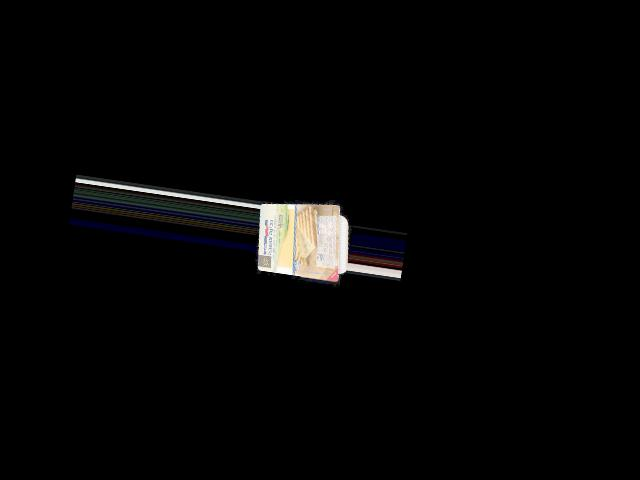cheese: (252, 196, 355, 280)
